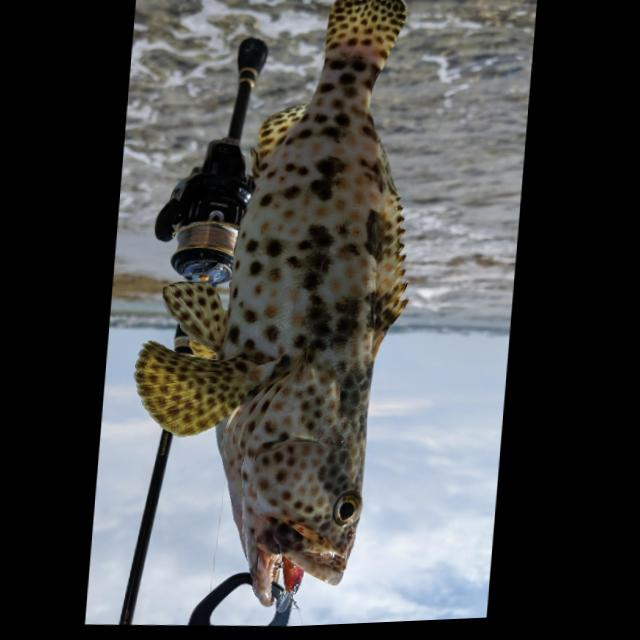Groupers: (111, 0, 436, 619)
